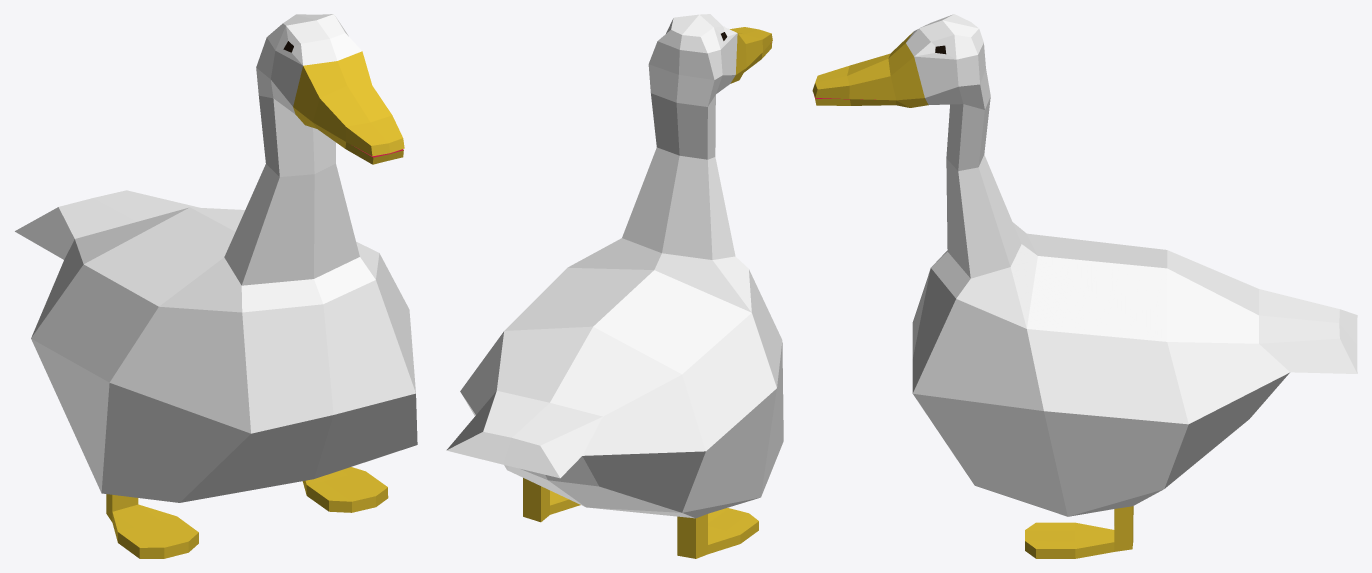
Rendered from LowPolyGoose.fbx.
3 views of the same model, side by side, from view 1: azimuth 30°, elevation 25°; view 2: azimuth 150°, elevation 25°; view 3: azimuth 270°, elevation 25° (orthographic). The views are drawn at different scales.
Visible parts, largest first — view 1: Cube; view 2: Cube; view 3: Cube.
Part boxes in pixels (bbox=[...]): Cube: bbox=[15, 14, 417, 558]; Cube: bbox=[446, 14, 783, 558]; Cube: bbox=[812, 14, 1357, 558].
Size of the model in its own units: 538 by 939 by 955.
1 material, 1 textured.
